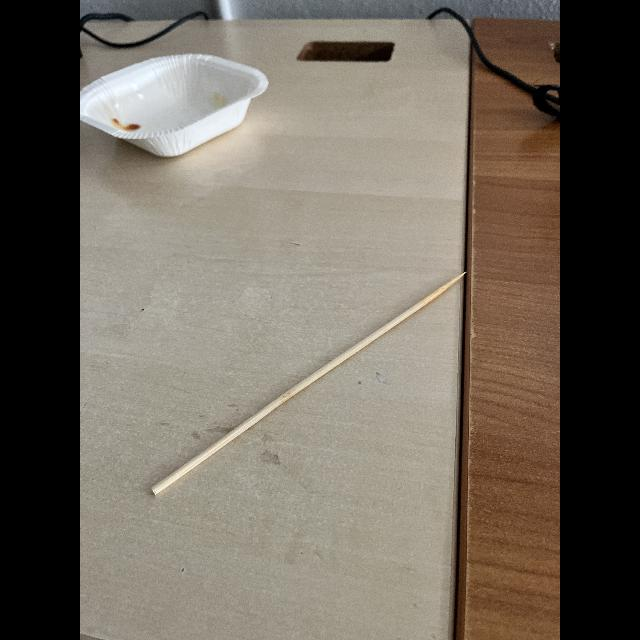cardboard_bowl: (80, 42, 274, 188)
stick: (144, 260, 476, 530)
